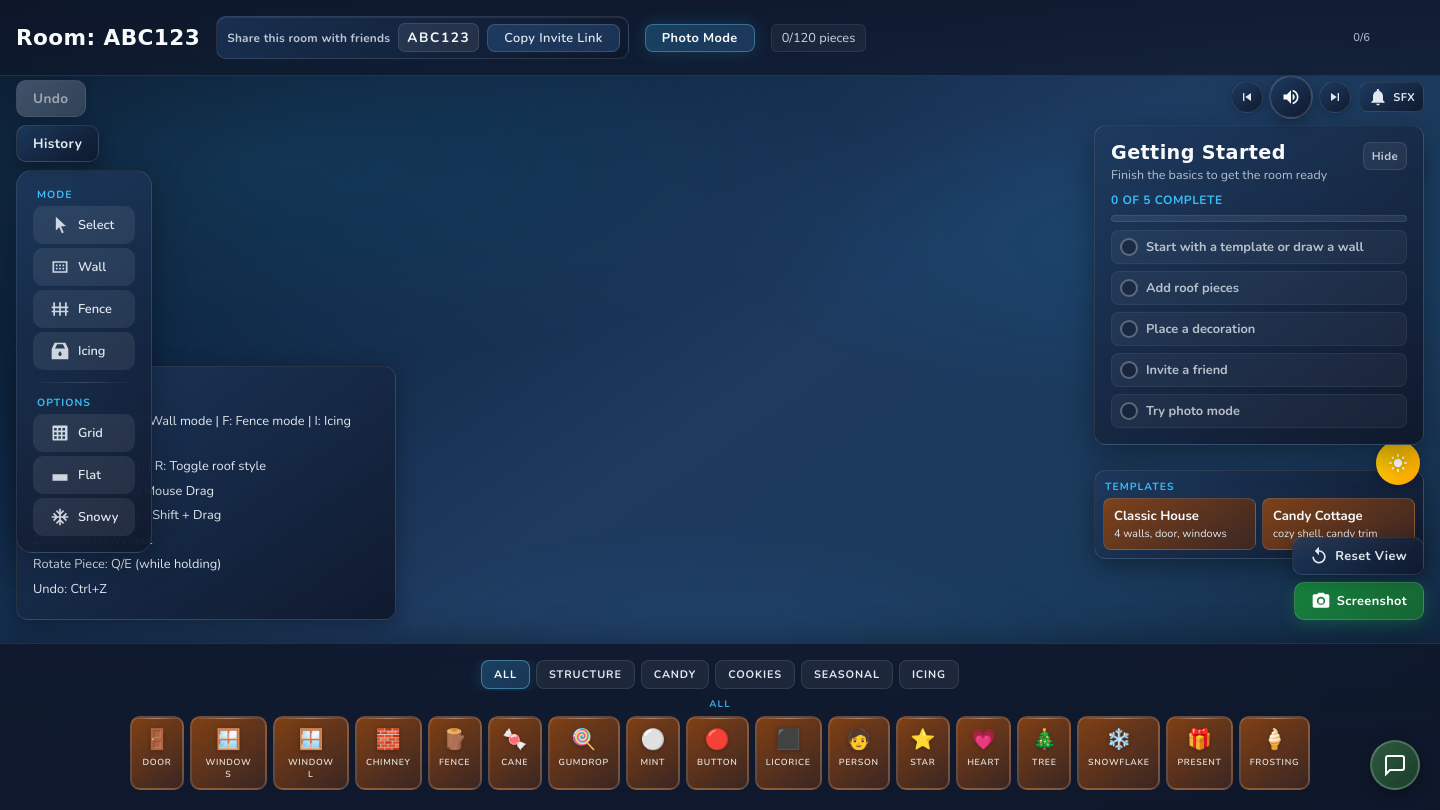
Test: RoomPage › enters photo mode with editing controls hidden and screenshot still available
expect the heading "Room: ABC123" is shown: met, box x1=16 y1=25 x2=200 y2=50
Click the button "Photo Mode" at (700, 38), box x1=645 y1=24 x2=755 y2=52
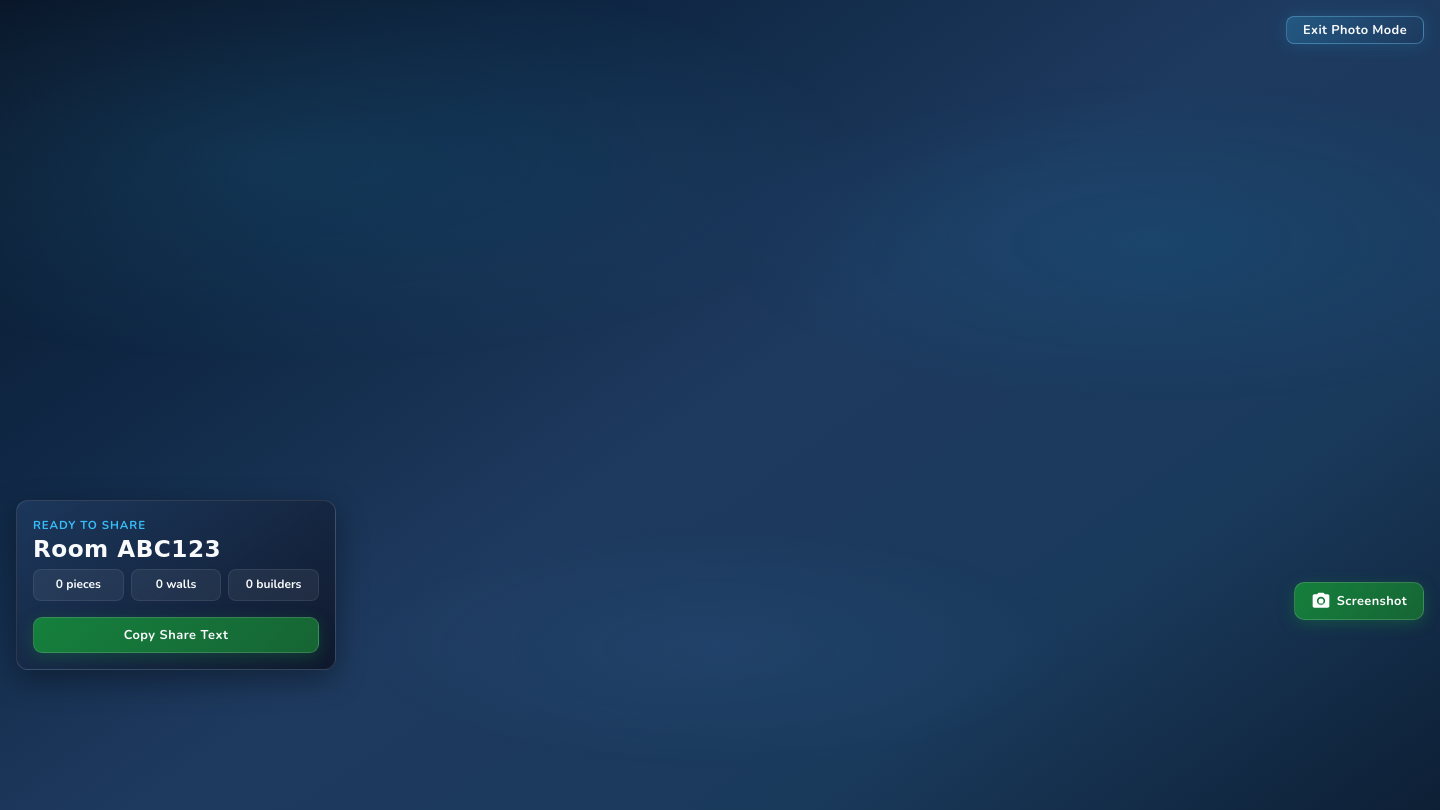
expect the heading "Room: ABC123" is gone: met
expect the element with test id "piece-tray" is gone: met
expect the element with test id "build-toolbar" is gone: met
